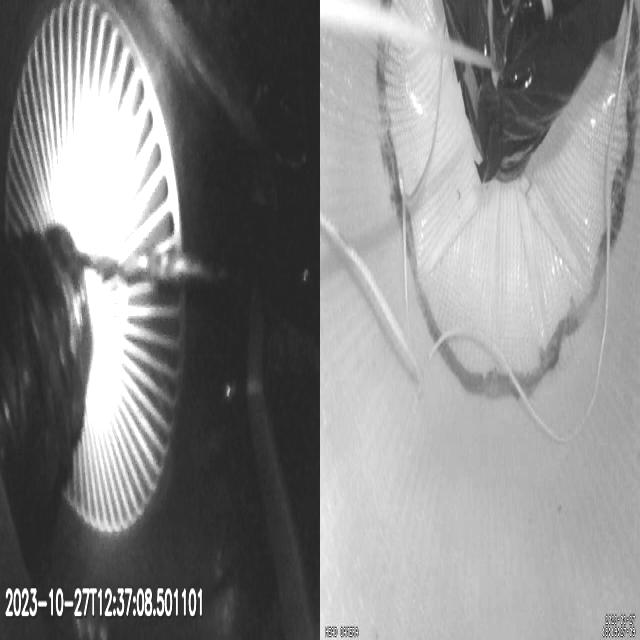red-circle: (376, 0, 640, 399)
